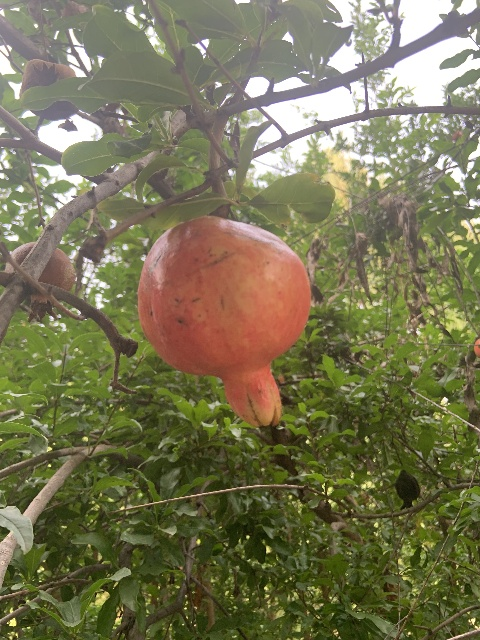bud: (452, 131, 462, 140)
ripe: (136, 217, 311, 427)
